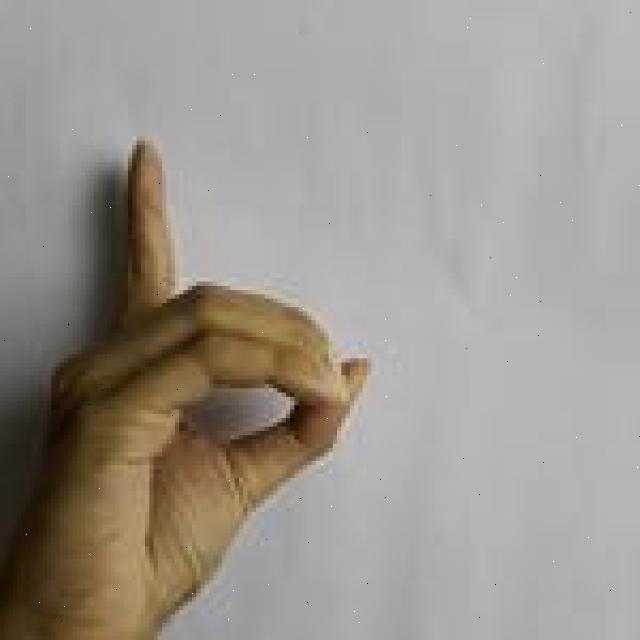D: (7, 140, 372, 626)
